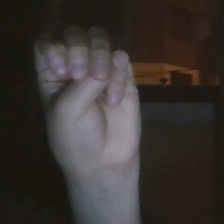M: (21, 18, 158, 178)
